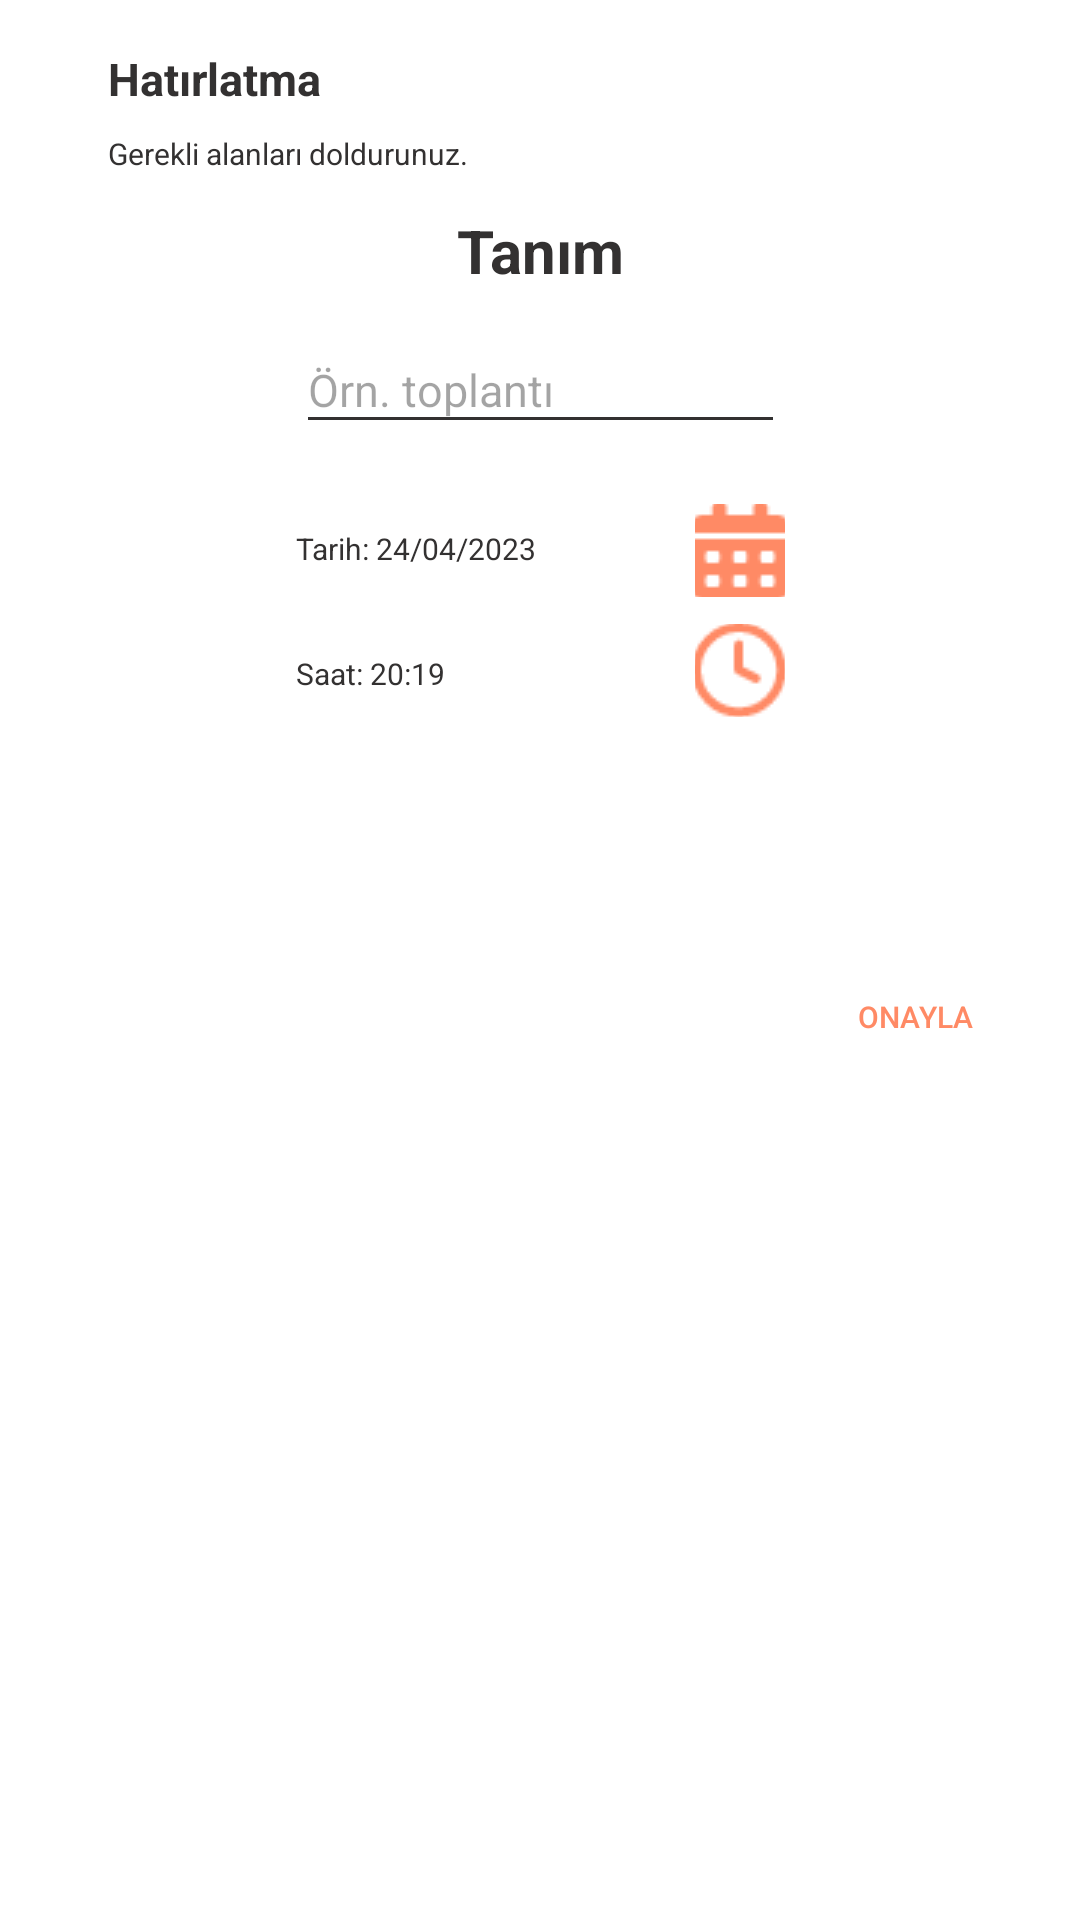

Point at icon controls on the screen. Image size 1080px x 1920px, points as point (x, y).
clock: point (740, 670)
